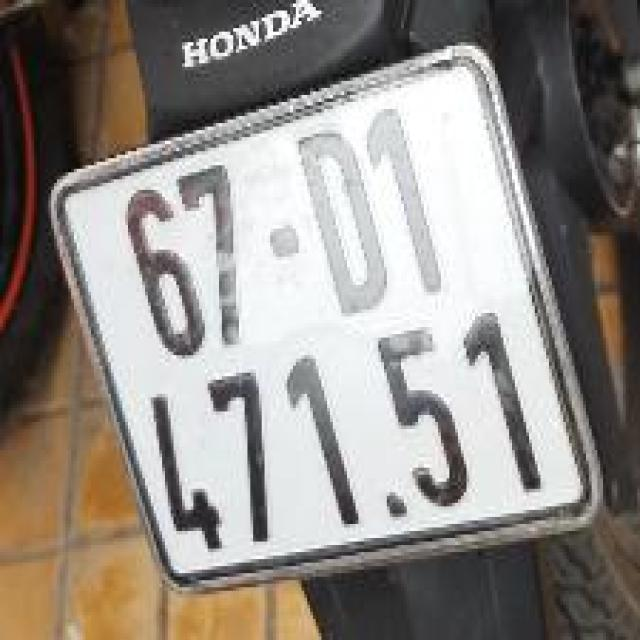1: (460, 308, 550, 508), (281, 352, 368, 548), (368, 102, 446, 302)
4: (140, 386, 230, 570)
5: (376, 318, 484, 526)
6: (124, 174, 209, 368)
7: (180, 142, 254, 350), (213, 366, 276, 559)
D: (287, 116, 401, 324)
